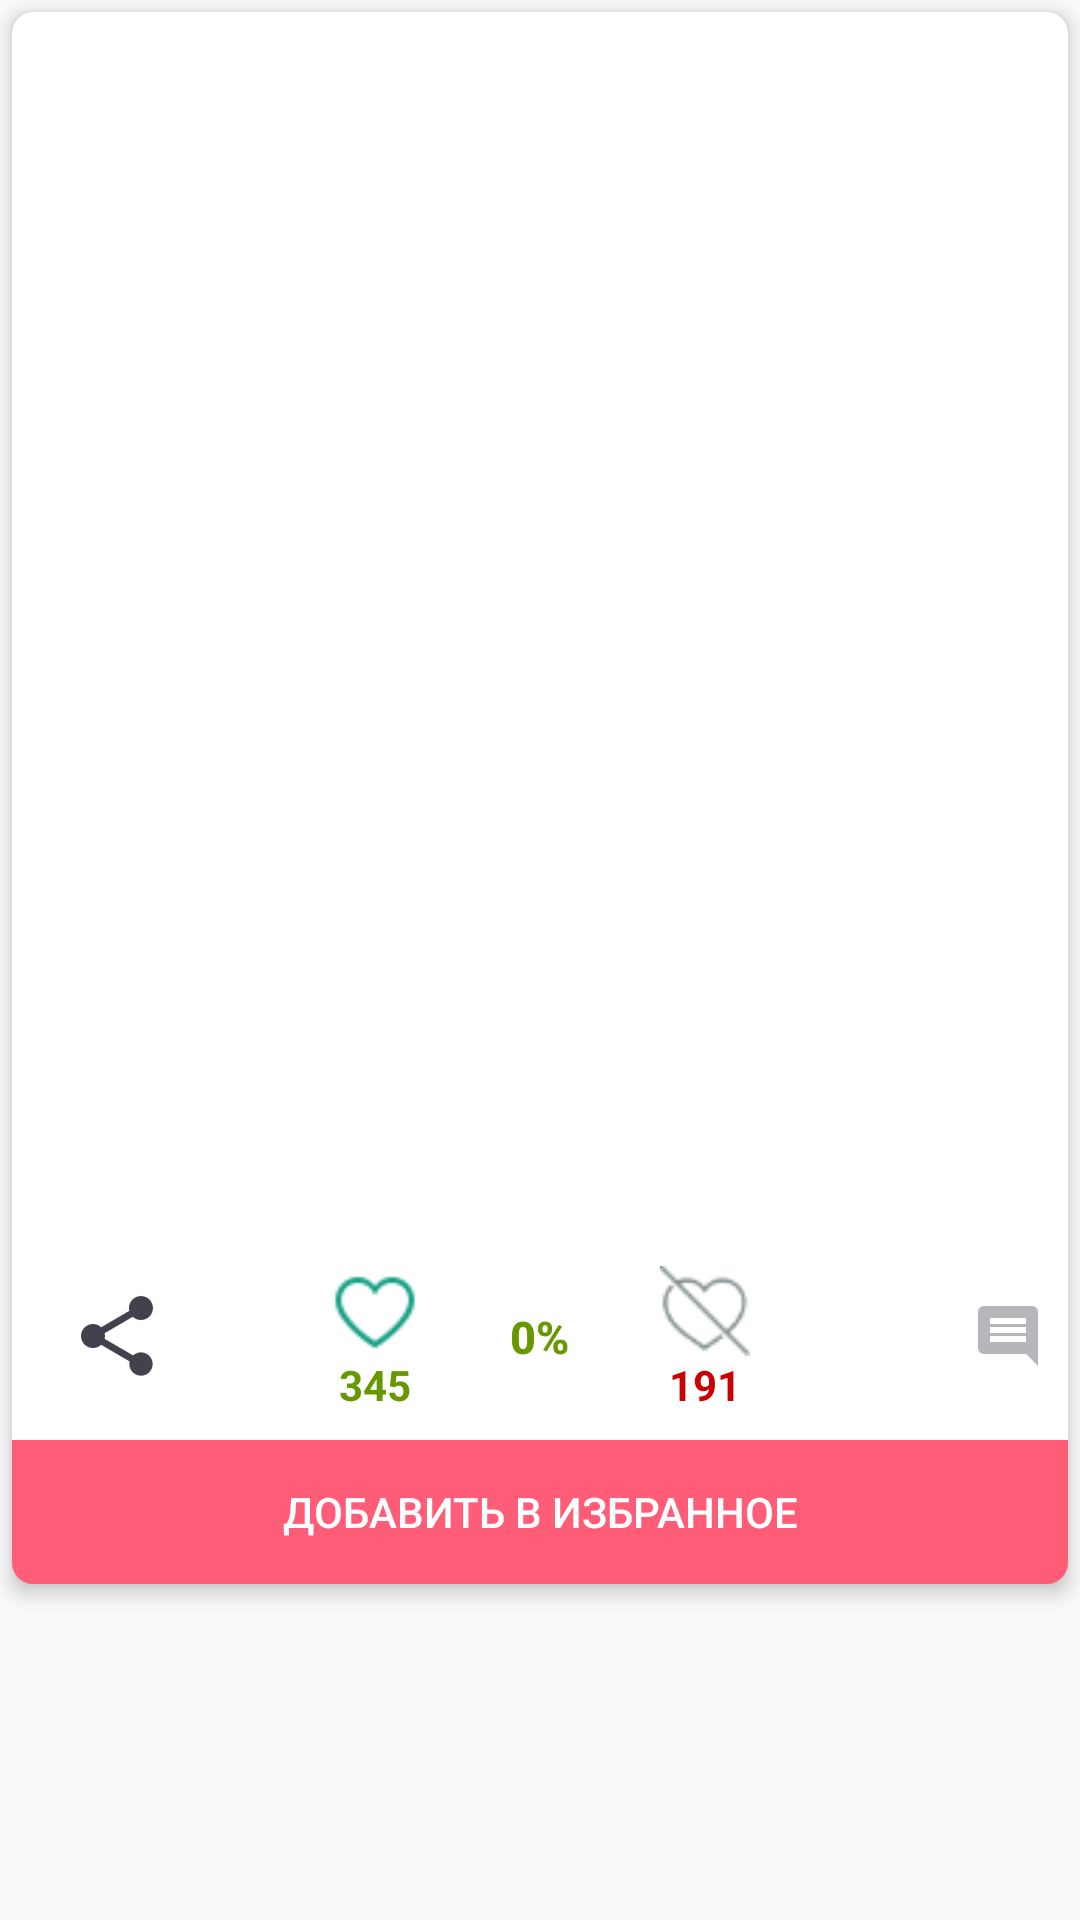

Icon click points for this 1080×1920 phone screenshot, format (x,y):
comment: (1008,1336)
dislike unpressed: (705,1311)
like unpressed: (375,1312)
share: (117,1336)
